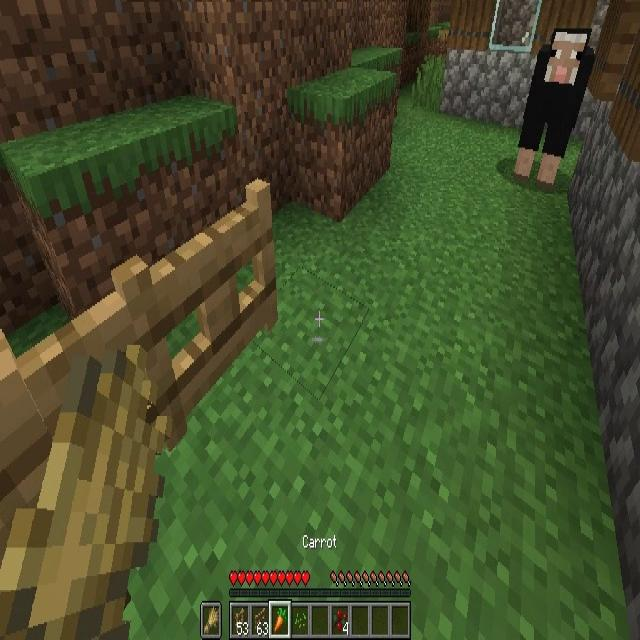sheep: (516, 31, 592, 187)
